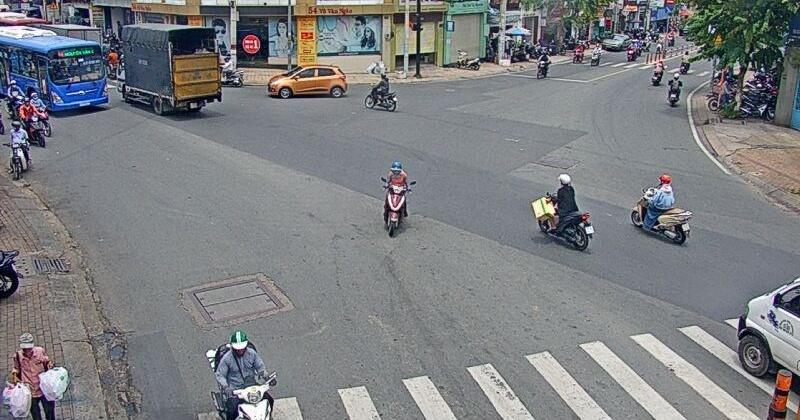xe buyt: (0, 23, 108, 115)
xe hoi: (266, 65, 349, 100)
xe may: (206, 328, 278, 420), (532, 174, 594, 252), (631, 170, 690, 246), (381, 160, 413, 235), (362, 71, 398, 113), (535, 49, 550, 79)
xe tai: (114, 23, 222, 119)
